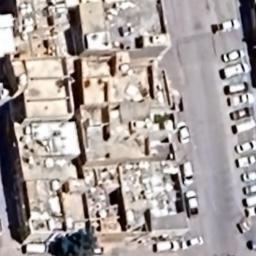SUV: (220, 62, 253, 79), (154, 235, 182, 255)
pickup: (184, 186, 200, 218)
sedan: (208, 16, 242, 36), (175, 120, 193, 146), (225, 92, 256, 106), (219, 48, 246, 63), (230, 106, 256, 120), (233, 139, 256, 154), (182, 235, 206, 249), (241, 170, 256, 183)
van: (179, 160, 197, 188), (223, 79, 252, 95)
